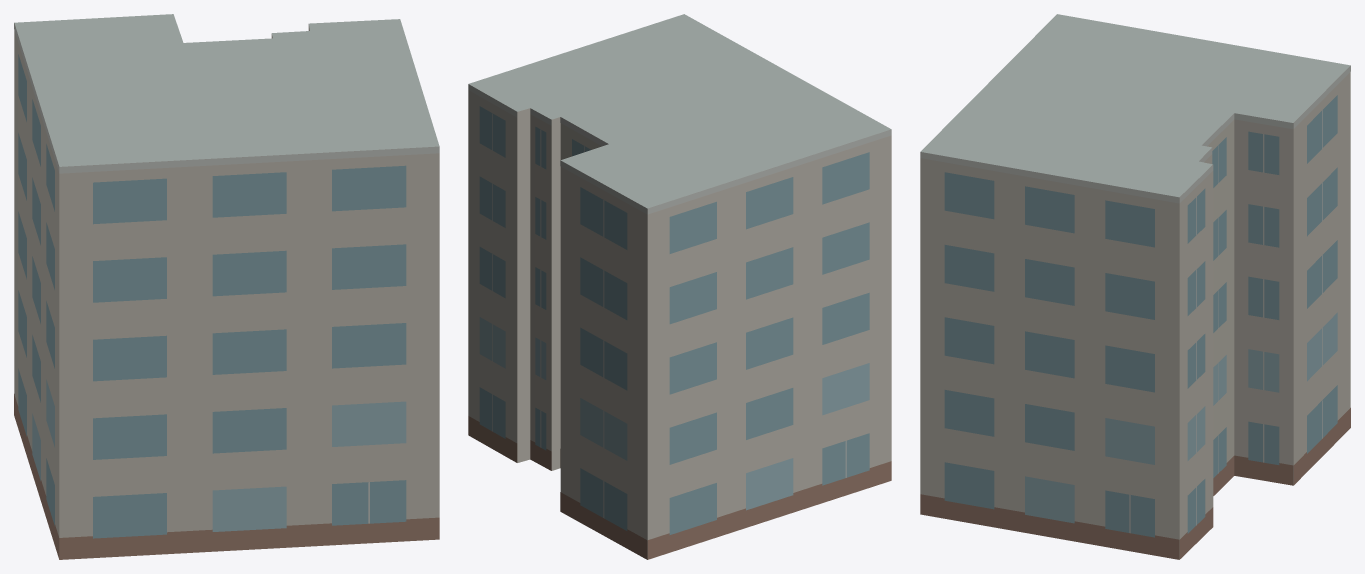
File: survey-upis-32491761.glb
The picture shows the model from 3 angles, left to right: view 1: azimuth 30°, elevation 25°; view 2: azimuth 150°, elevation 25°; view 3: azimuth 270°, elevation 25°; orthographic projection. The views are drawn at different scales.
Visible parts, largest first — view 1: survey-upis-32491761.tmp; view 2: survey-upis-32491761.tmp; view 3: survey-upis-32491761.tmp.
Part boxes in pixels (<box>): survey-upis-32491761.tmp: <box>14,14,439,559</box>; survey-upis-32491761.tmp: <box>468,14,891,559</box>; survey-upis-32491761.tmp: <box>920,14,1350,559</box>.
Bounding box in the file's own units: 15.35 × 14.15 × 15.24.
